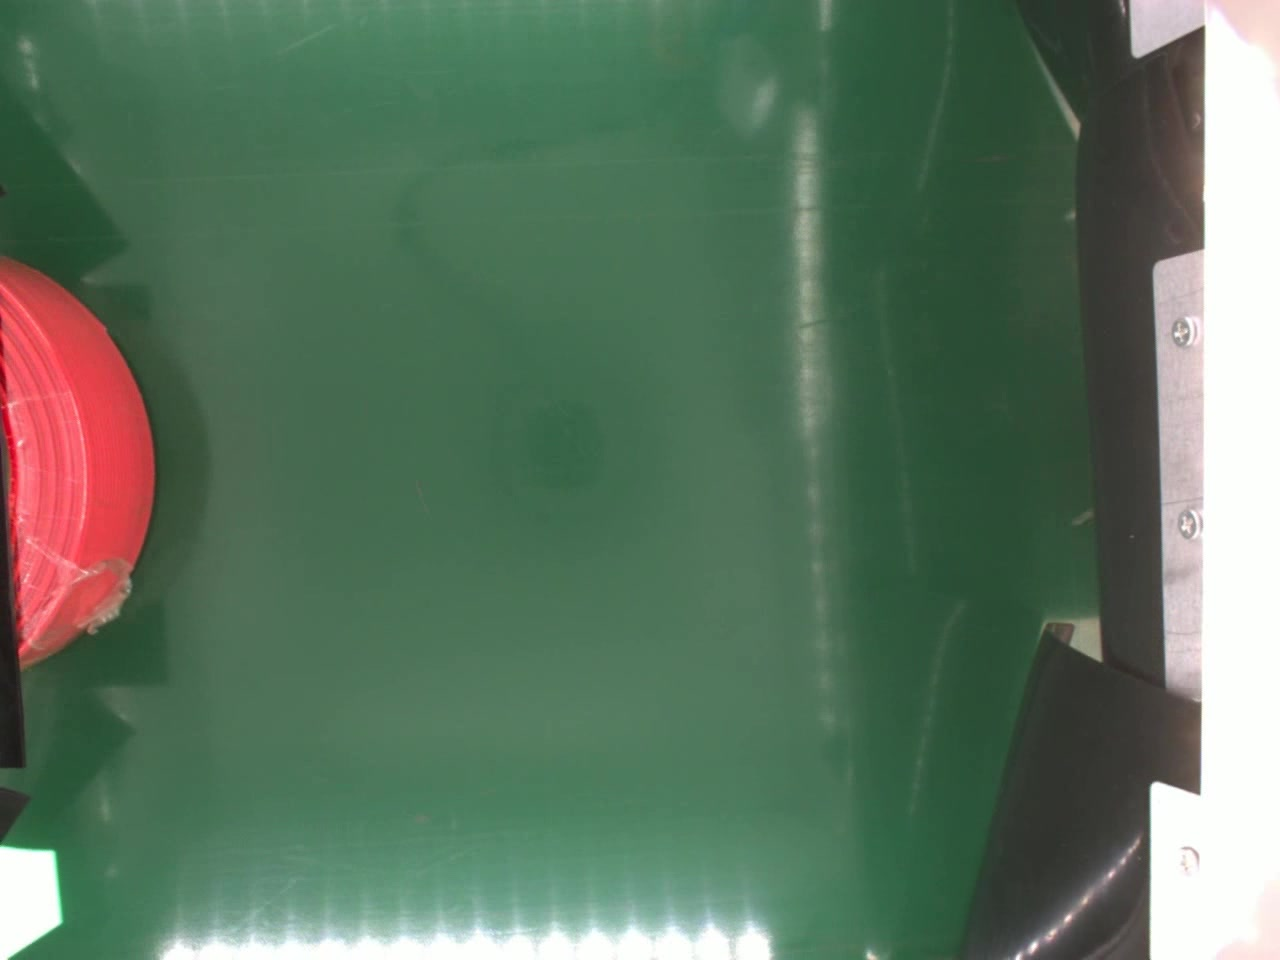red: (0, 247, 154, 665)
